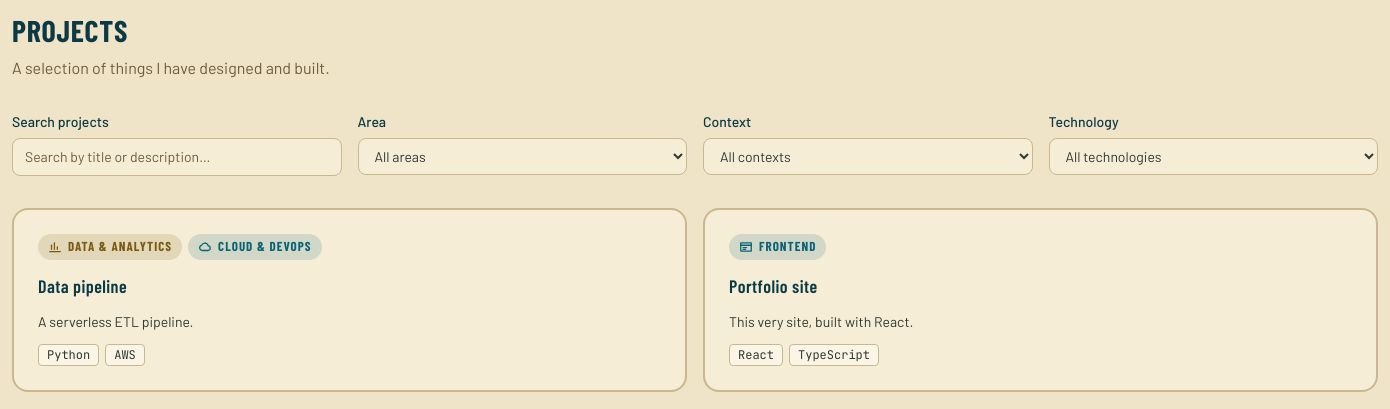
Scenario: Projects › filters projects by text search
Expected: the link "Data pipeline" is shown, [38,275,127,297]
Type "serverless" into the search field labelled "Search projects" at [177, 157], box [12,138,342,176]
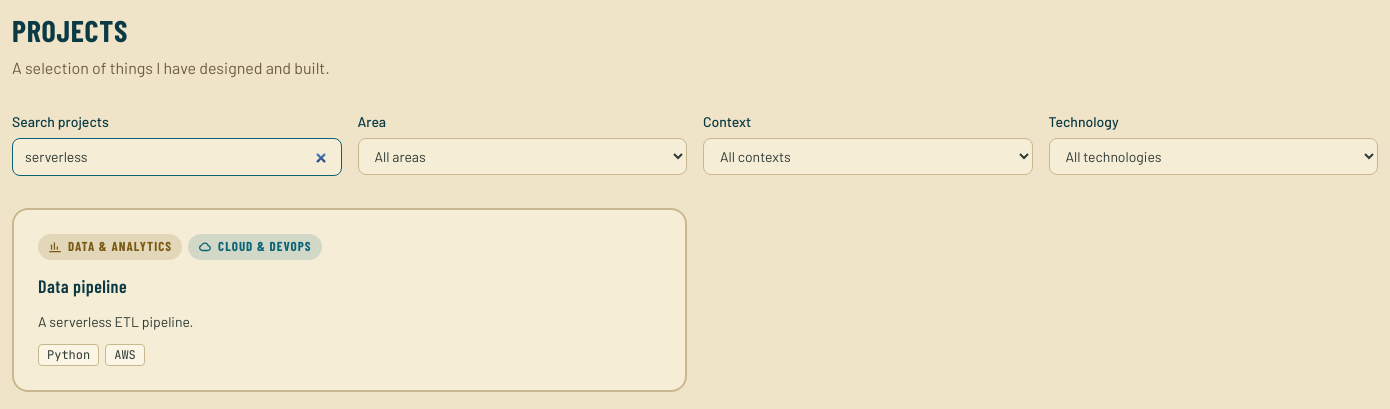
Expected: the link "Data pipeline" is shown, [38,275,127,297]
Expected: the link "Portfolio site" is gone
